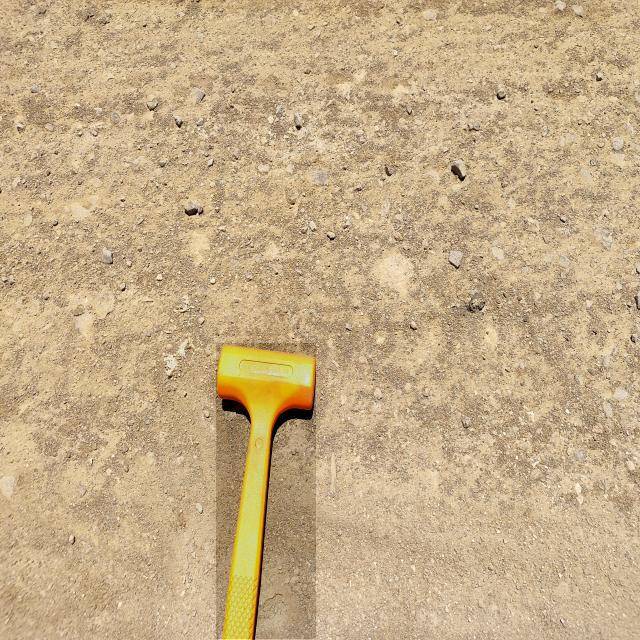Orange_hammer: (216, 343, 316, 639)
